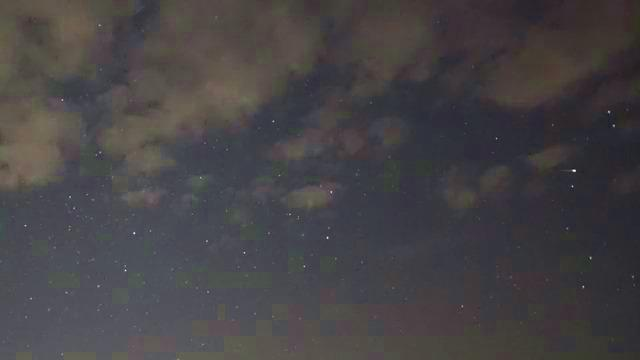meteorite: (556, 163, 581, 178)
